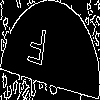F: (25, 25, 48, 76)
